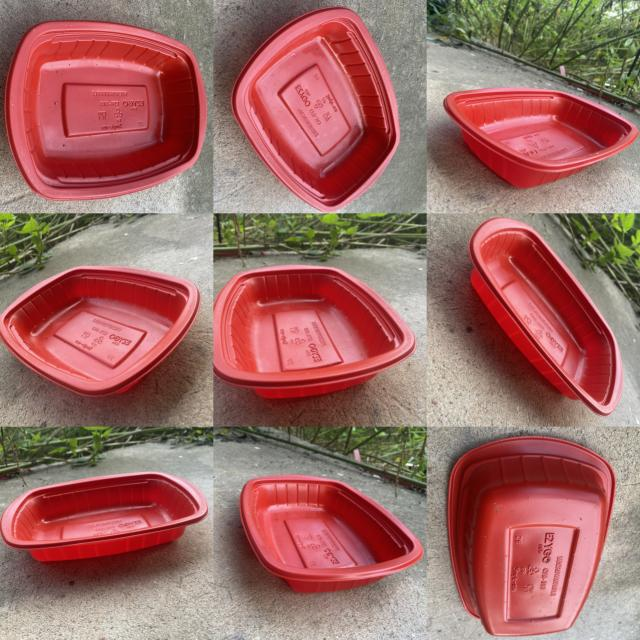Single-Use-Plastic: (5, 21, 208, 200), (231, 8, 400, 212), (448, 436, 615, 636), (469, 218, 624, 416), (214, 265, 416, 398), (0, 266, 200, 396), (240, 475, 422, 592), (444, 88, 639, 188), (0, 471, 209, 561)
